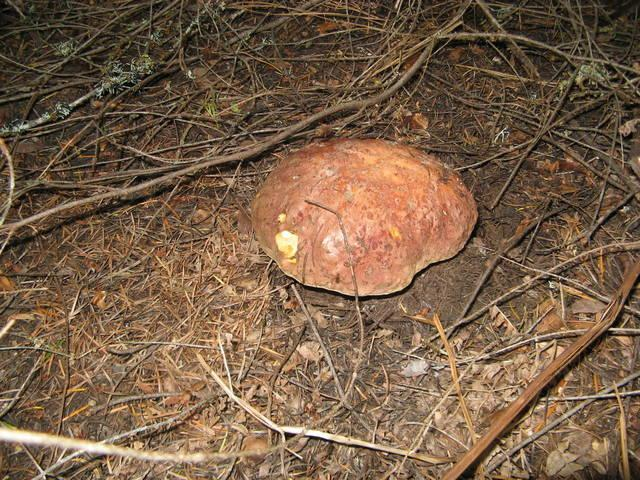edible_mushroom: (243, 135, 479, 298)
